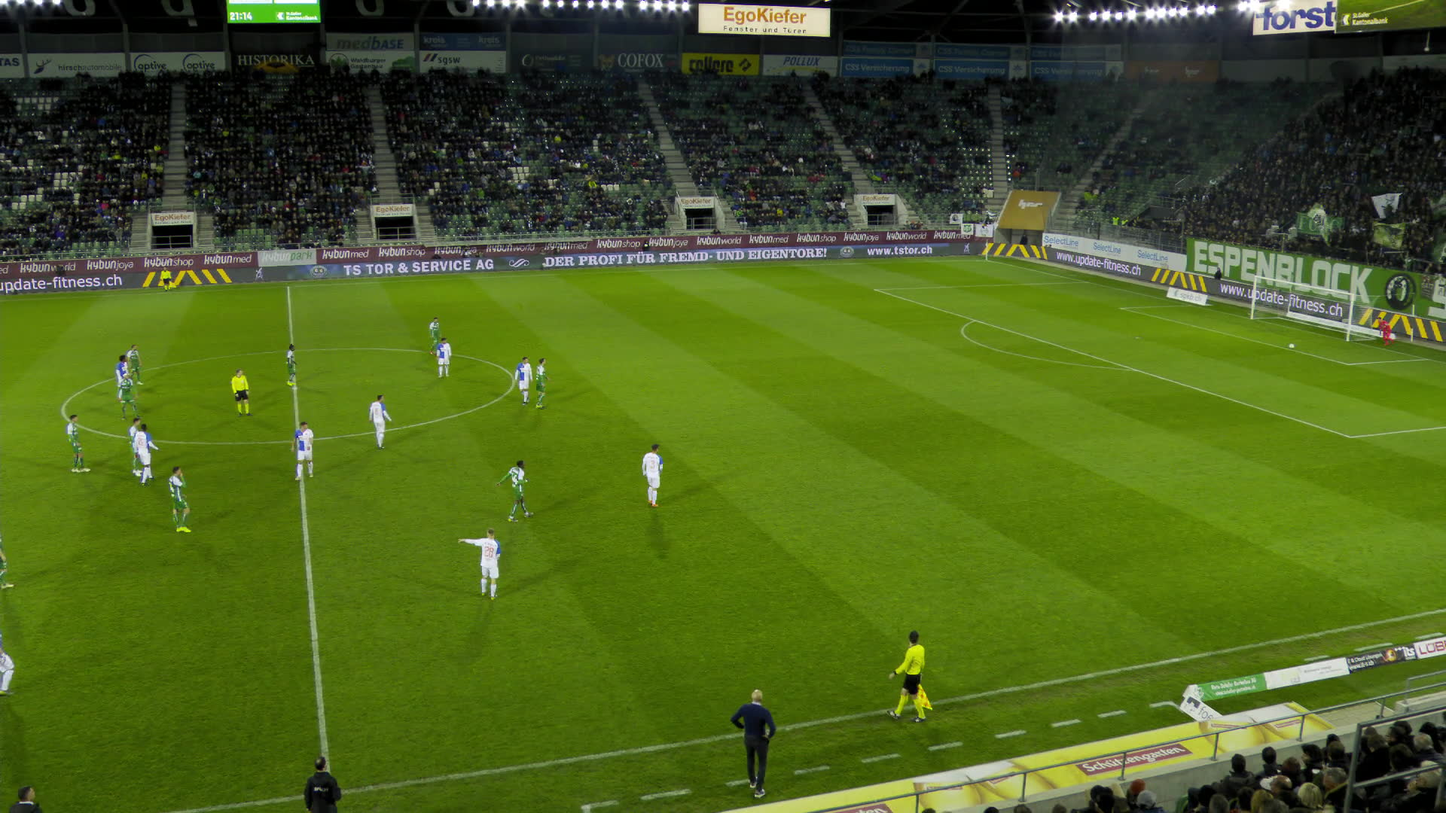ball: (1289, 343, 1295, 349)
player: (458, 528, 505, 600), (0, 622, 28, 697), (168, 467, 199, 534), (502, 459, 531, 521), (66, 415, 93, 473), (134, 422, 158, 485), (642, 444, 665, 507), (292, 420, 315, 479), (368, 395, 392, 449), (117, 373, 141, 419), (115, 355, 139, 398), (515, 357, 535, 405), (128, 419, 143, 477), (0, 532, 14, 592), (535, 358, 551, 409), (127, 344, 144, 385), (437, 337, 452, 378), (286, 343, 300, 385), (1378, 316, 1396, 346), (429, 317, 442, 354)
referee: (892, 629, 932, 723), (231, 369, 253, 417), (160, 266, 176, 291)
